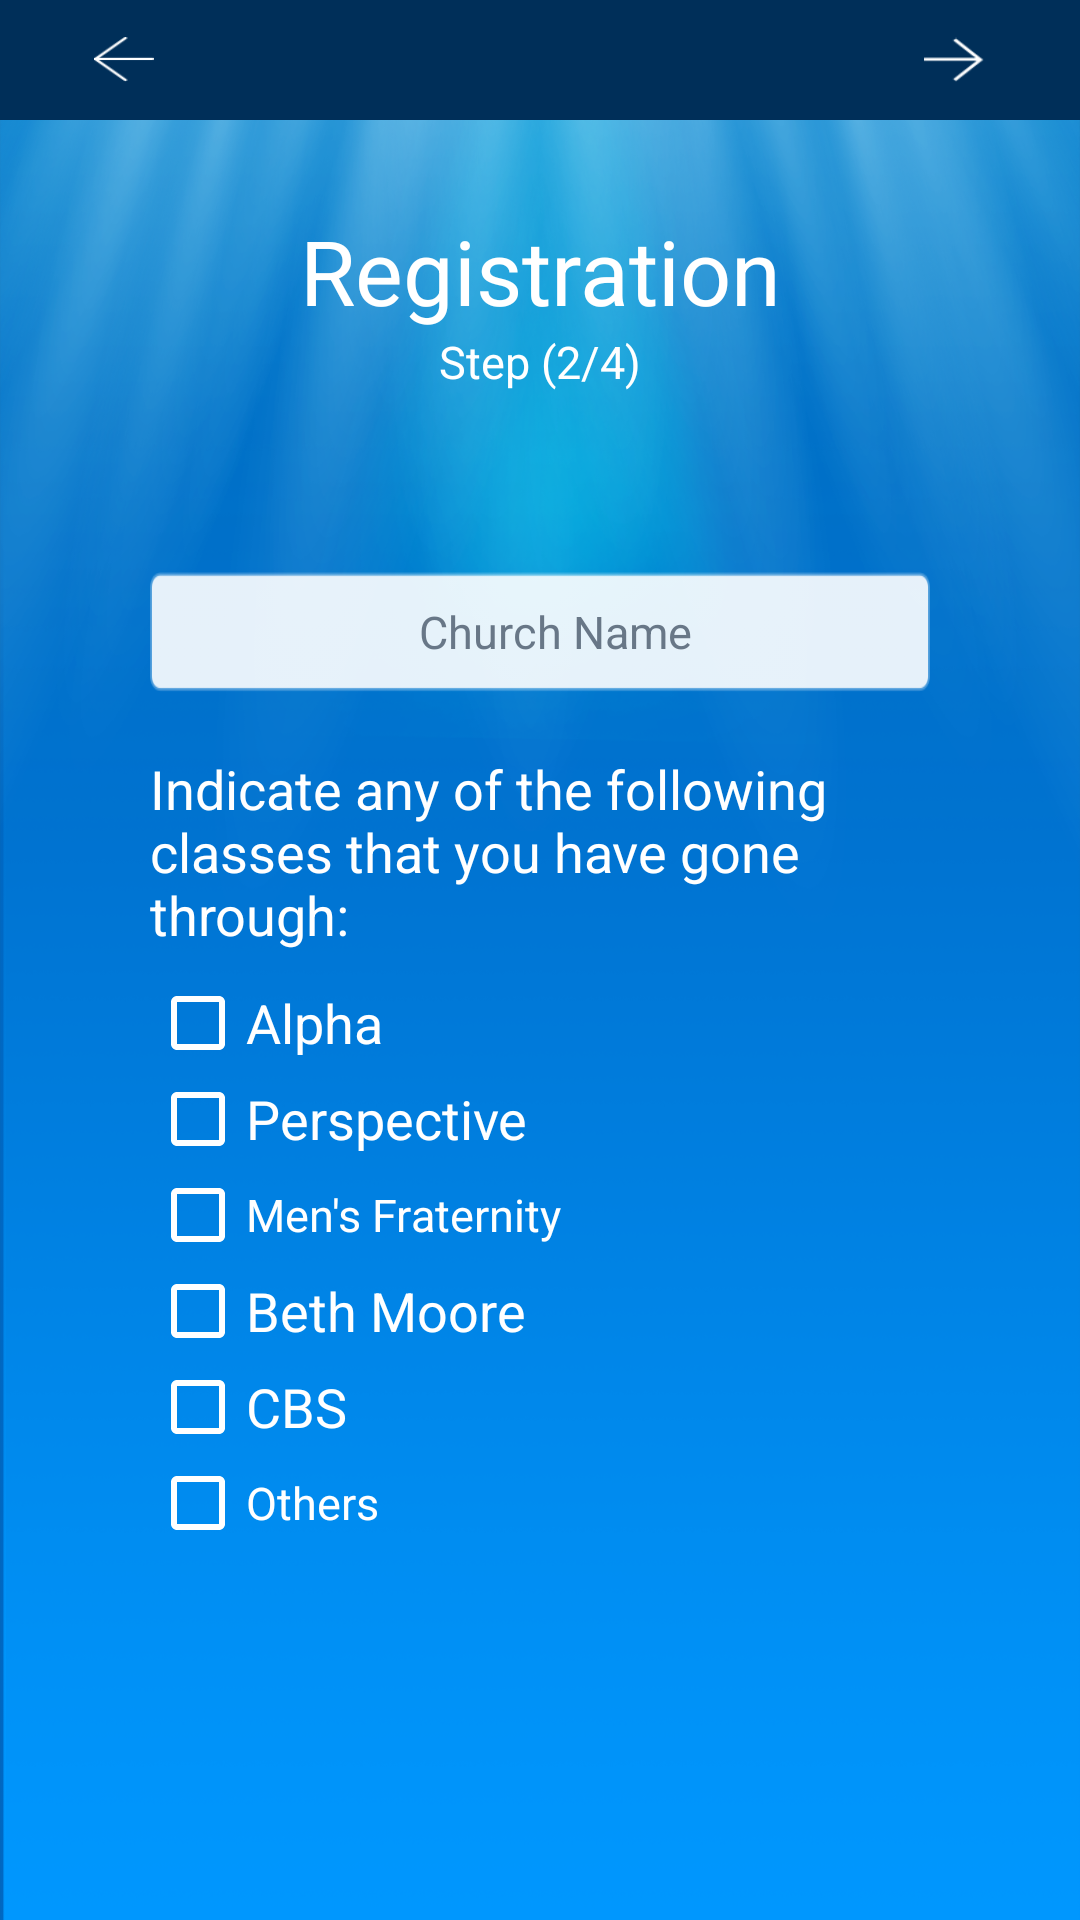

Icons on this 1080×1920 Android screen, each with its box as bbox=[x1, y1, x2, y2]:
left arrow: bbox=[94, 37, 154, 81]
right arrow: bbox=[924, 38, 983, 81]
